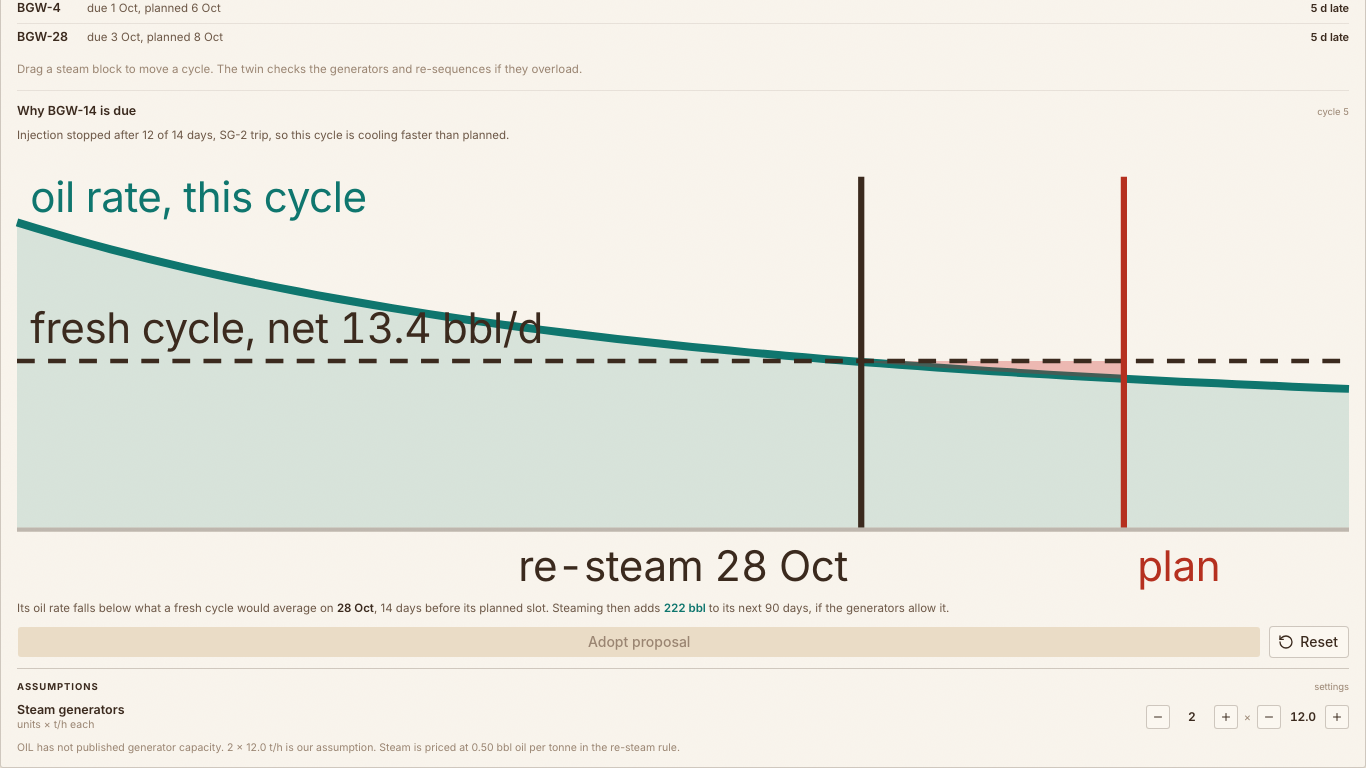
twin console › re-checks the plan when the engineer takes a generator away
(page scrolled)
Click the button named "Lower generator units".
click(1158, 717)  # box [1146,705,1170,729]
(page scrolled)
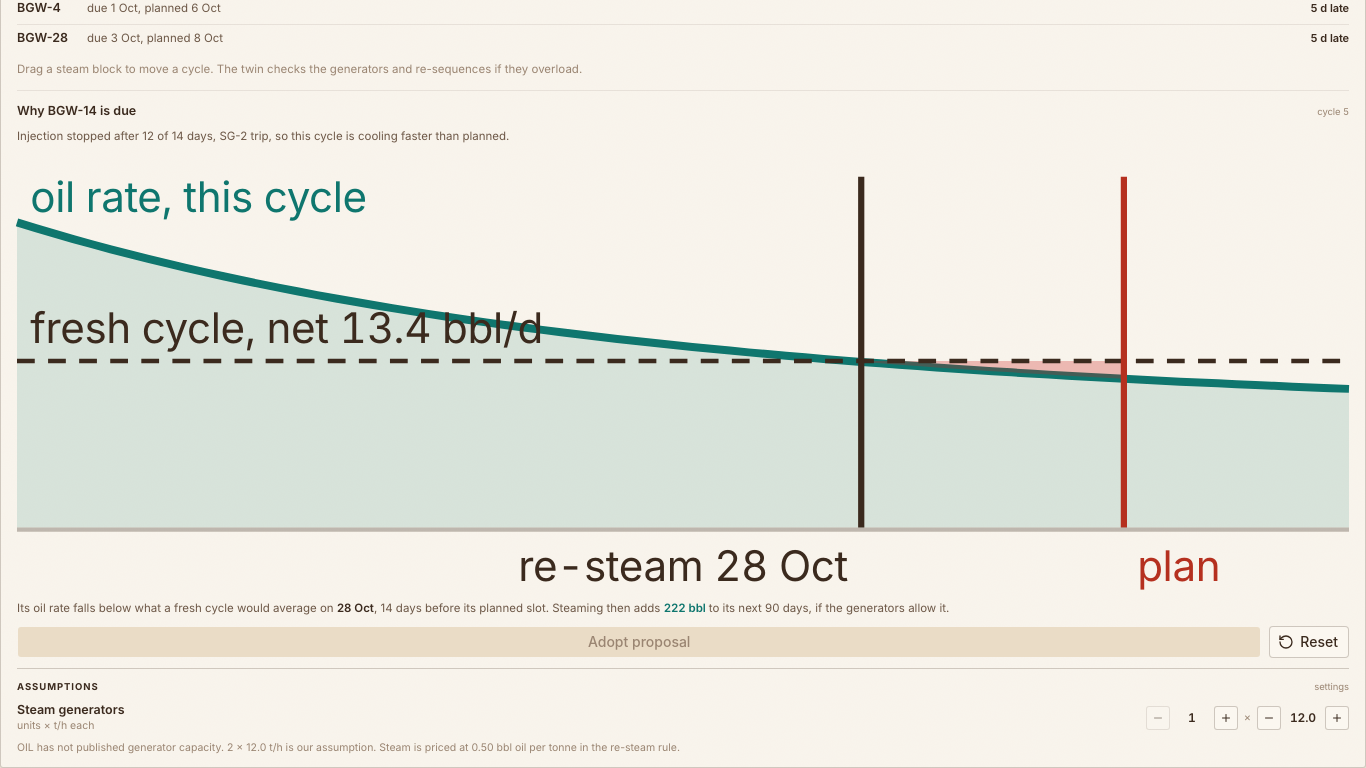
Expected: the button named "Lower generator units" is disabled, [1146,706,1170,730]
